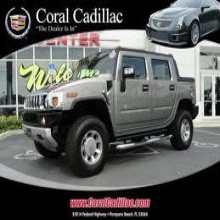no damage: (22, 47, 199, 177), (147, 1, 220, 47)
